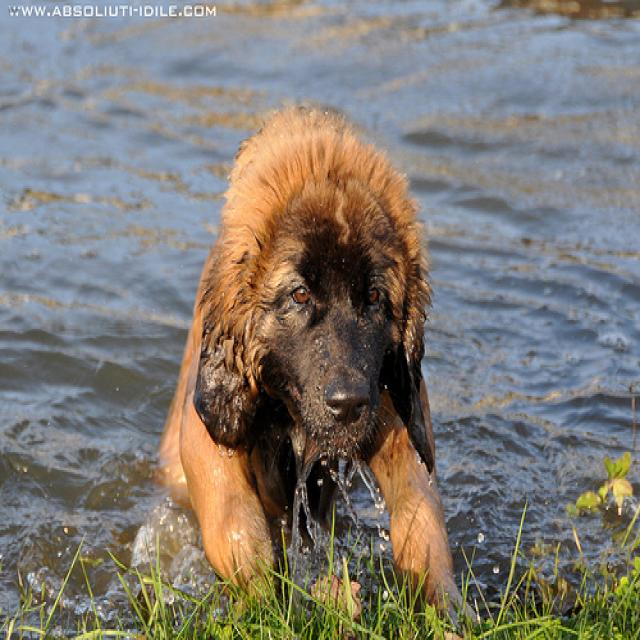dog-leonberger: (146, 92, 486, 636)
